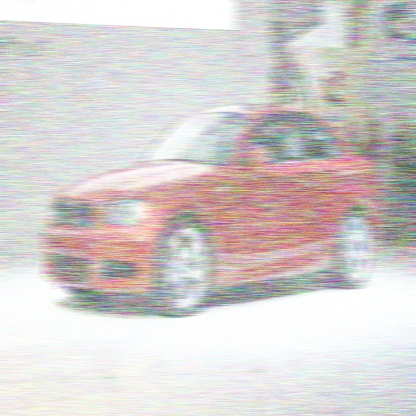Vehicle: (40, 101, 384, 319)
